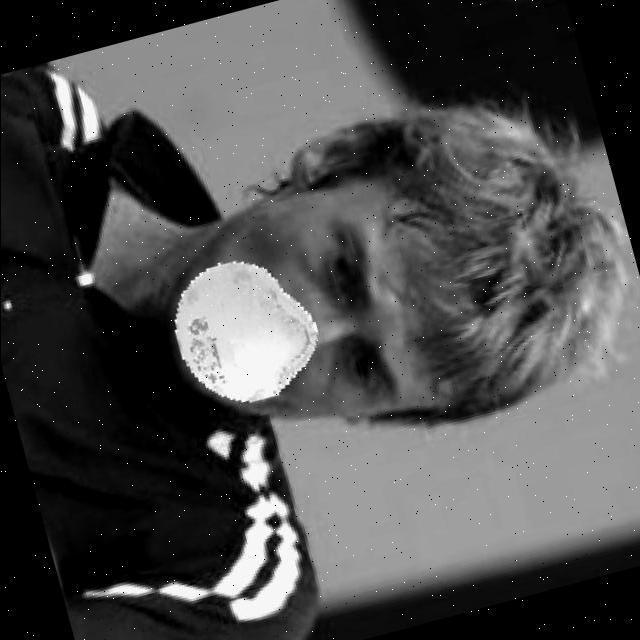no_gloves: (312, 94, 598, 470)
